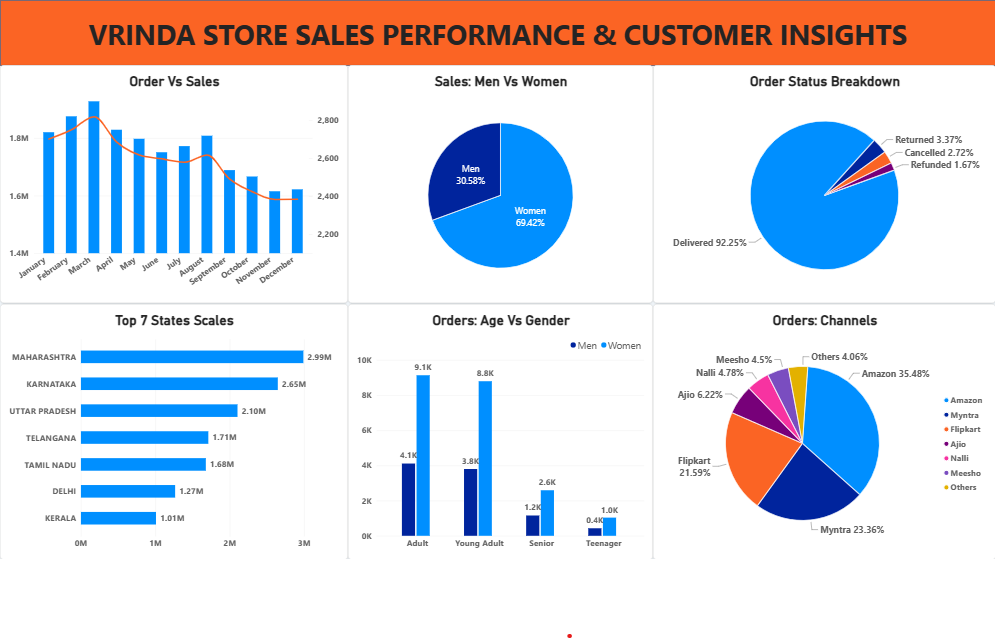

The page's visual inventory and layout, read from the dashboard file:
{"tool":"powerbi","page":{"name":"Page 1","canvas":[1920,1080],"ordinal":0},"visuals":[{"type":"shape","box":[0,0,1920,127.2],"z":0},{"type":"textbox","box":[0,28,1920,99.9],"z":1000},{"type":"pieChart","title":"Order Status Breakdown","fields":{"Category":["vrinda_store_cleaned.Status"],"Series":["vrinda_store_cleaned.Status"],"Y":["CountNonNull(vrinda_store_cleaned.Status)"]},"box":[1258.7,125.9,661.2,458.8],"z":2000},{"type":"lineClusteredColumnComboChart","title":"Order Vs Sales","fields":{"Category":["vrinda_store_cleaned.Date.Variation.Date Hierarchy.Month"],"Y":["Sum(vrinda_store_cleaned.Amount)"],"Y2":["CountNonNull(vrinda_store_cleaned.Order ID)"]},"box":[0,125.9,670.8,458.8],"z":3000},{"type":"pieChart","title":"Sales: Men Vs Women","fields":{"Category":["vrinda_store_cleaned.Gender"],"Y":["CountNonNull(vrinda_store_cleaned.Gender)"]},"box":[671.3,125.9,588,458.8],"z":4000},{"type":"clusteredBarChart","title":"Top 7 States Scales","fields":{"Category":["vrinda_store_cleaned.ship-state"],"Y":["Sum(vrinda_store_cleaned.Amount)"]},"box":[0,586.5,670.8,493.5],"z":5000},{"type":"clusteredColumnChart","title":"Orders: Age Vs Gender","fields":{"Category":["vrinda_store_cleaned.Age_Group"],"Series":["vrinda_store_cleaned.Gender"],"Y":["CountNonNull(vrinda_store_cleaned.Order ID)"]},"box":[670.8,586.5,588,493.5],"z":6000},{"type":"pieChart","title":"Orders: Channels","fields":{"Category":["vrinda_store_cleaned.Channel "],"Y":["CountNonNull(vrinda_store_cleaned.Order ID)"]},"box":[1258.7,586.5,661.2,493.5],"z":7000}]}

Visuals, with their boxes on the page's 1920x1080 design canvas (x1, y1, x2, y2). These are canvas units, not pixel positions in the 995x639 screenshot, which may show the page scaled, cropped or inside an application window:
shape: x1=0 y1=0 x2=1920 y2=127
textbox: x1=0 y1=28 x2=1920 y2=128
"Order Status Breakdown" pieChart: x1=1259 y1=126 x2=1920 y2=585
"Order Vs Sales" lineClusteredColumnComboChart: x1=0 y1=126 x2=671 y2=585
"Sales: Men Vs Women" pieChart: x1=671 y1=126 x2=1259 y2=585
"Top 7 States Scales" clusteredBarChart: x1=0 y1=586 x2=671 y2=1080
"Orders: Age Vs Gender" clusteredColumnChart: x1=671 y1=586 x2=1259 y2=1080
"Orders: Channels" pieChart: x1=1259 y1=586 x2=1920 y2=1080
